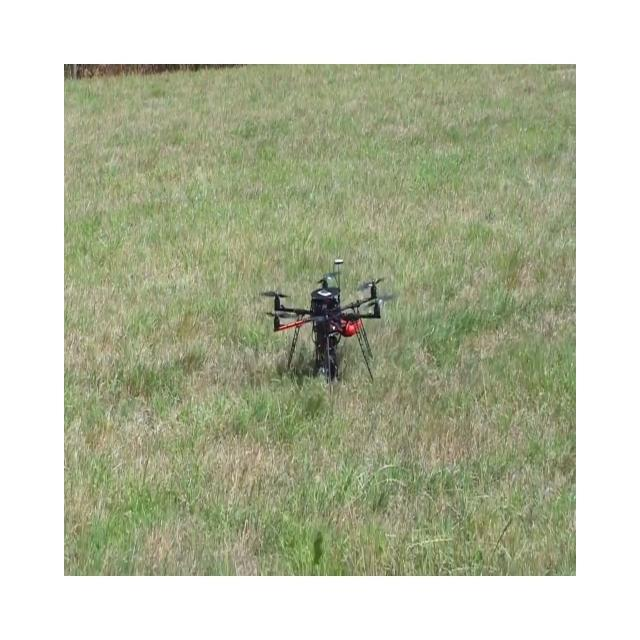drone: (259, 258, 397, 385)
